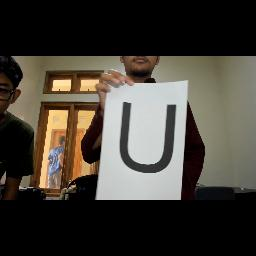u: (114, 96, 182, 186)
